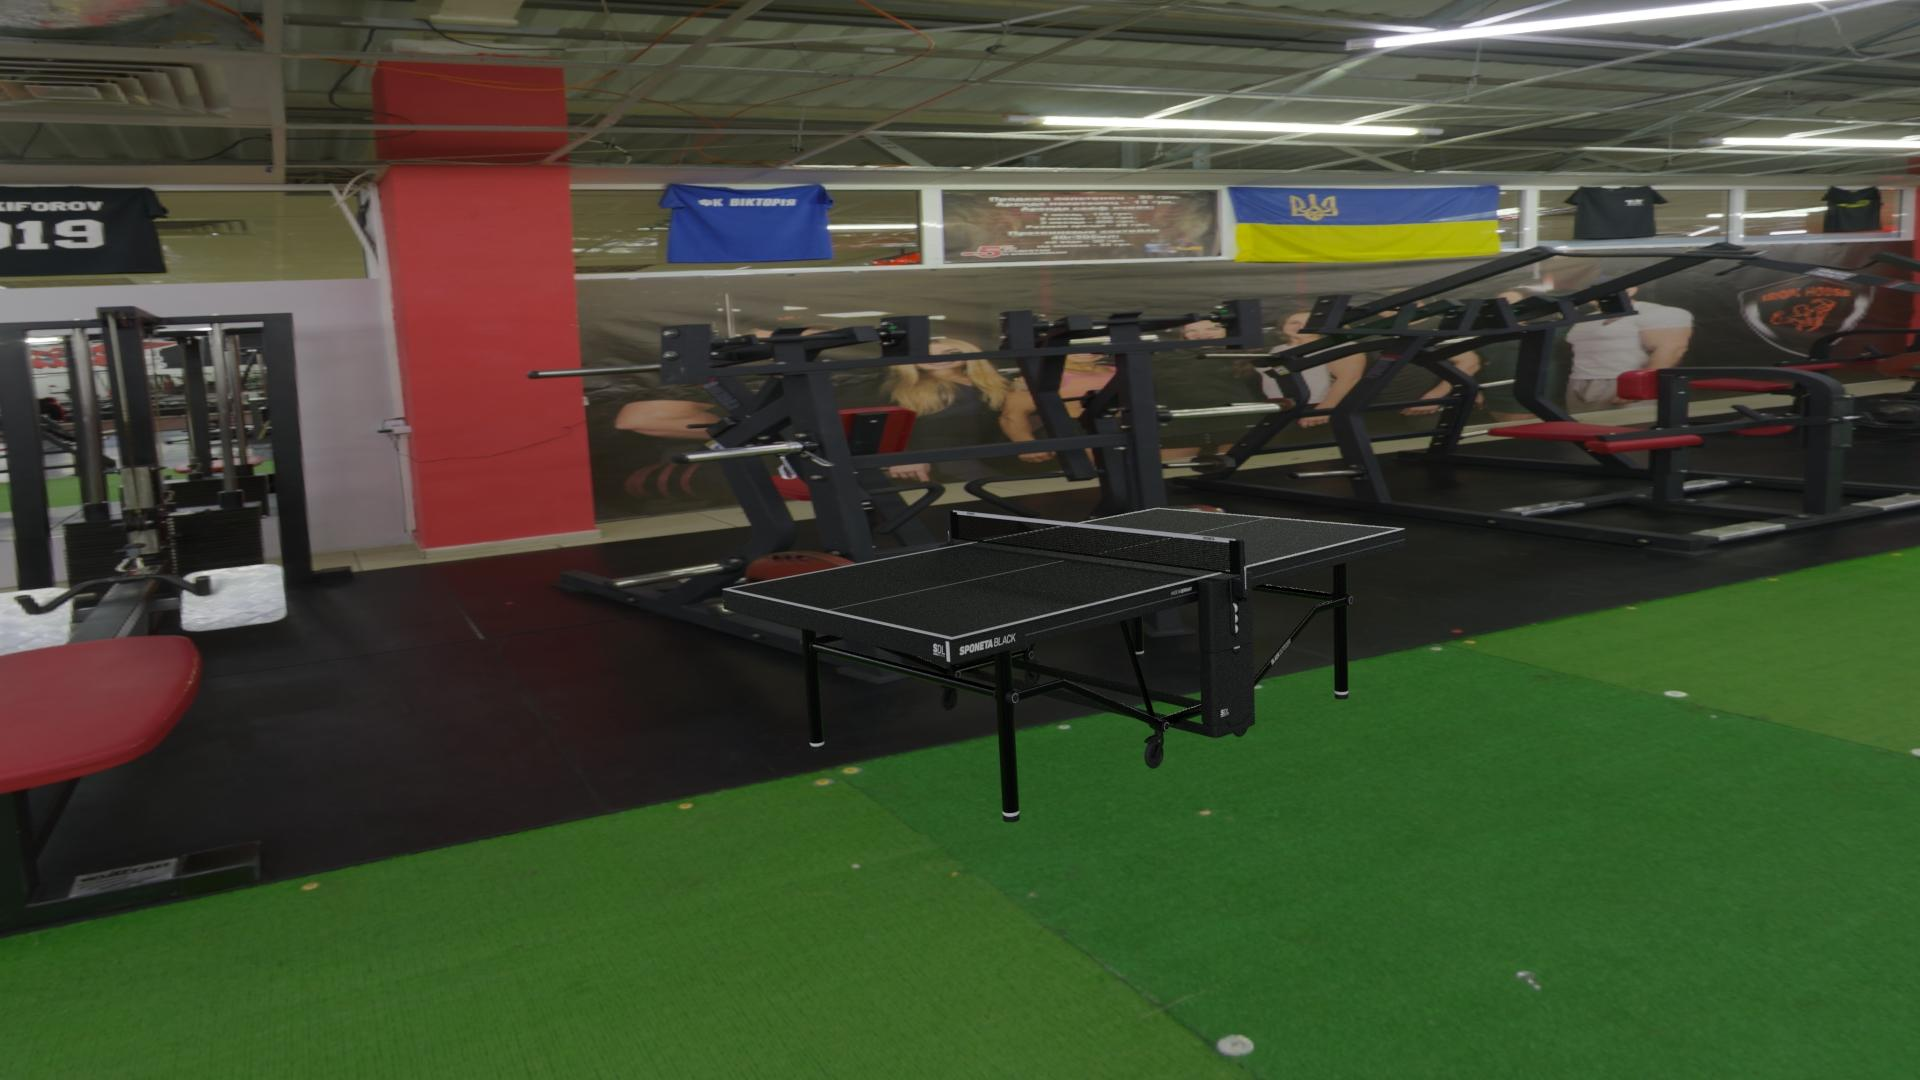table: (729, 509, 1399, 637)
